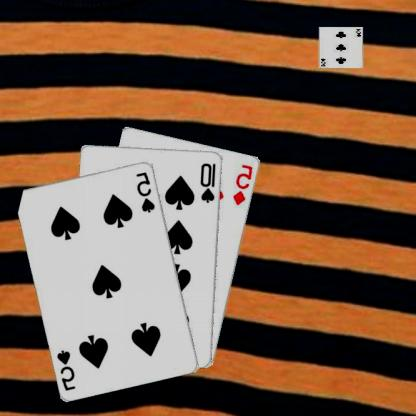10S: (200, 160, 219, 204)
5D: (232, 162, 256, 206)
5S: (56, 346, 79, 392), (136, 168, 158, 214)
